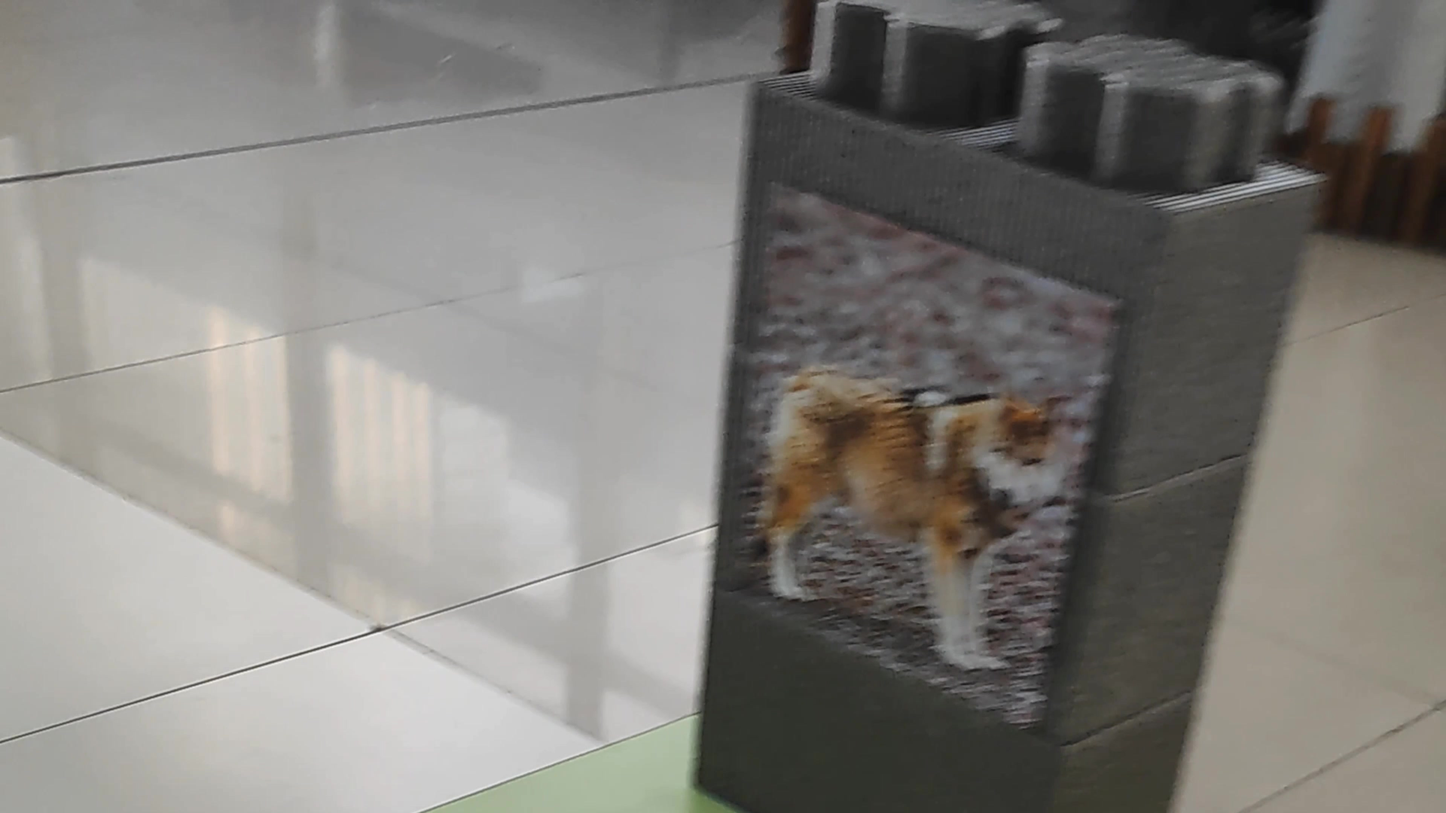wolf: (740, 336, 1075, 690)
